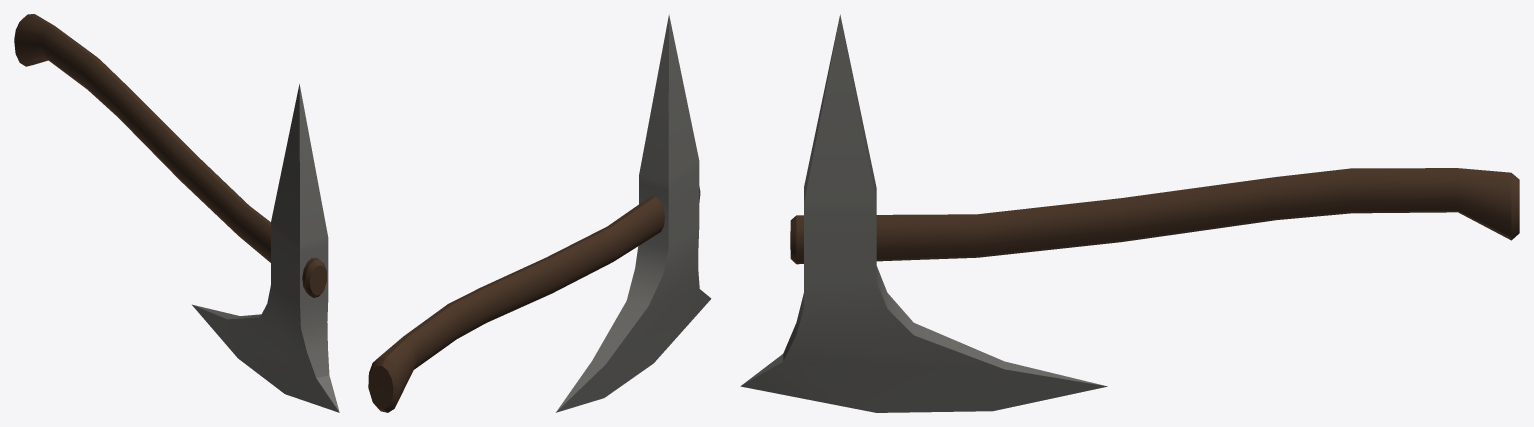
File: SM_Axe.fbx
3 renders of one model, left to right at view 1: azimuth 30°, elevation 25°; view 2: azimuth 150°, elevation 25°; view 3: azimuth 270°, elevation 25°, orthographic. The views are drawn at different scales.
Parts seen in each view (by area): view 1: SM_Axe; view 2: SM_Axe; view 3: SM_Axe.
Boxes of the visible parts, x1,y1,x2,y2 form: SM_Axe: (14,14,339,412); SM_Axe: (368,14,711,412); SM_Axe: (740,14,1519,412).
Bounding box in the file's own units: 0.0608 × 0.6151 × 1.09.
